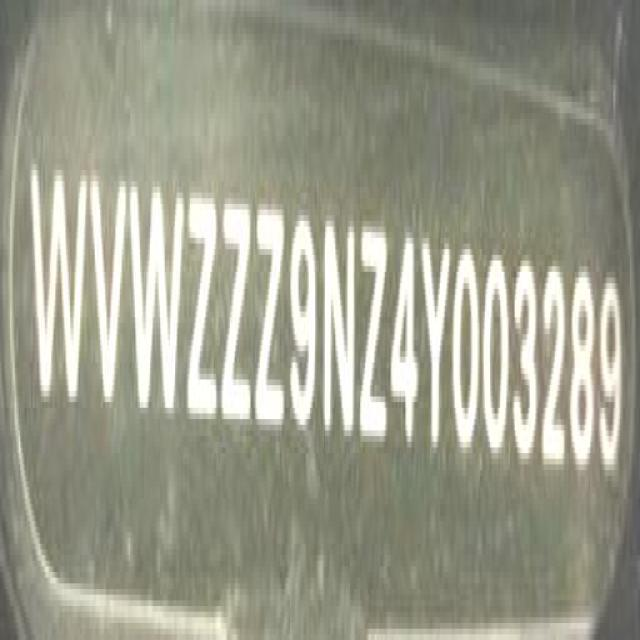0: (455, 240, 482, 458), (483, 248, 509, 463)
2: (545, 266, 570, 472)
3: (514, 257, 539, 469)
4: (393, 219, 422, 459)
8: (571, 267, 596, 472)
9: (290, 204, 320, 441), (600, 275, 624, 481)
N: (322, 204, 358, 450)
V: (92, 158, 130, 421)
W: (29, 159, 89, 405), (131, 168, 184, 428)
Y: (420, 224, 452, 461)
Z: (187, 180, 222, 436), (220, 183, 253, 438), (255, 191, 288, 443), (357, 208, 391, 444)
